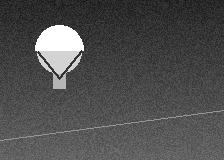helmet: (35, 25, 83, 78)
